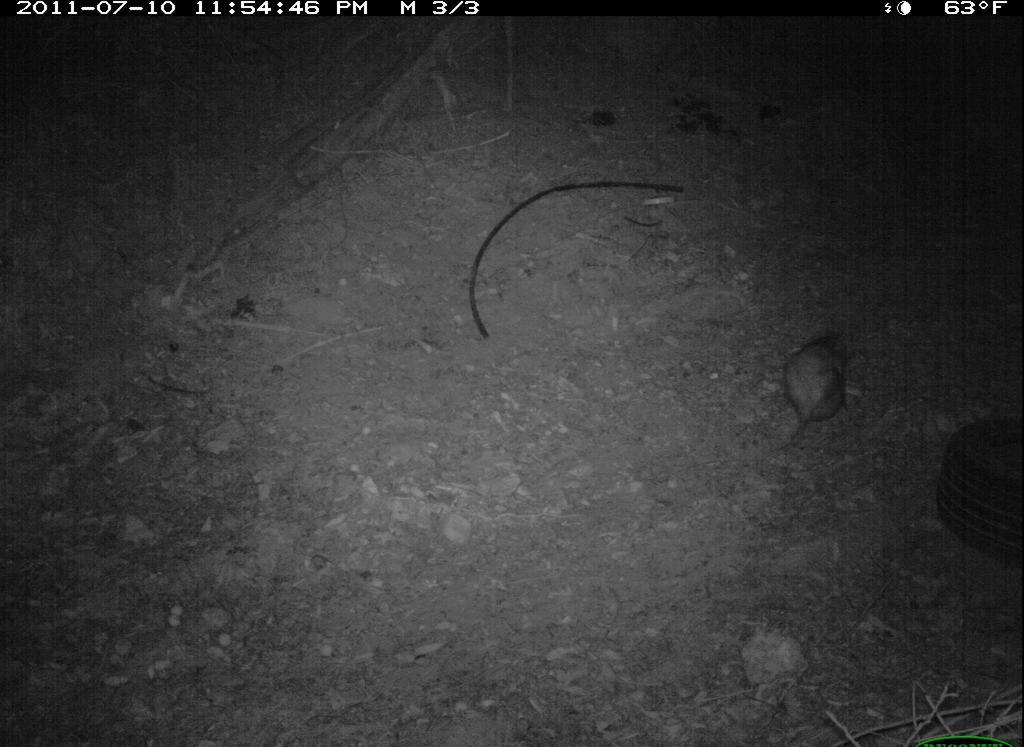opossum: (760, 314, 862, 463)
